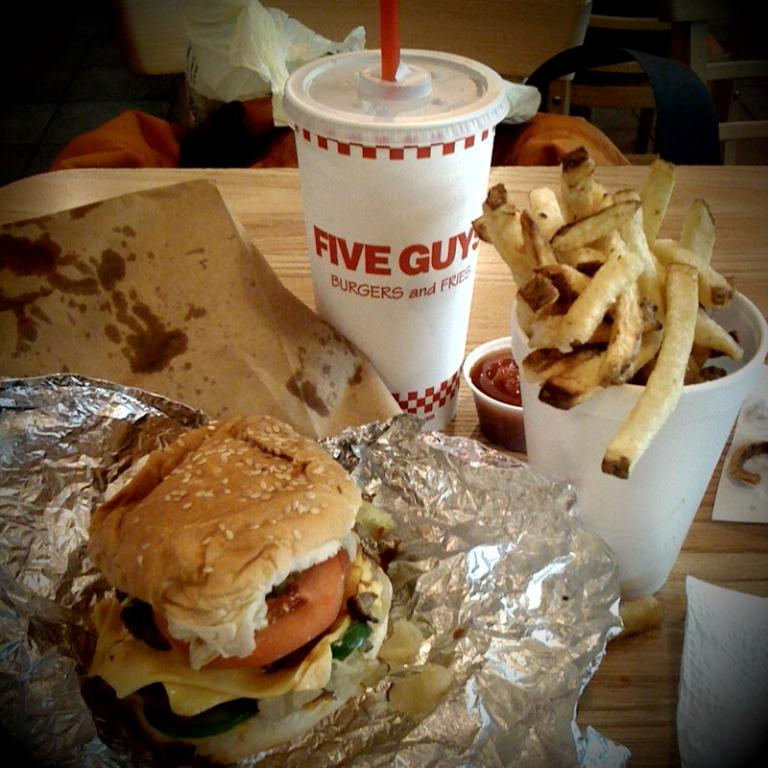French fries: (496, 130, 743, 477)
